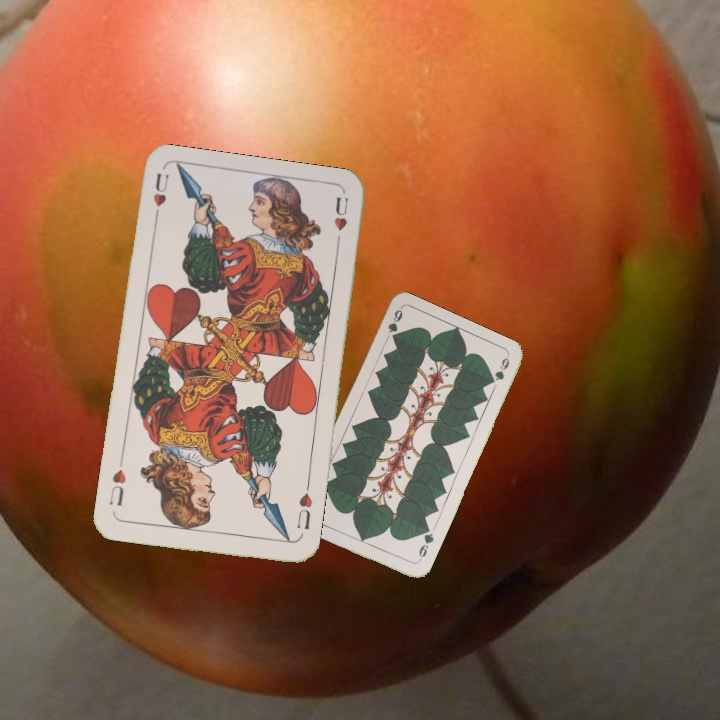G9: (414, 525, 436, 565), (384, 305, 405, 343)
HU: (149, 169, 172, 227), (292, 489, 315, 532)
